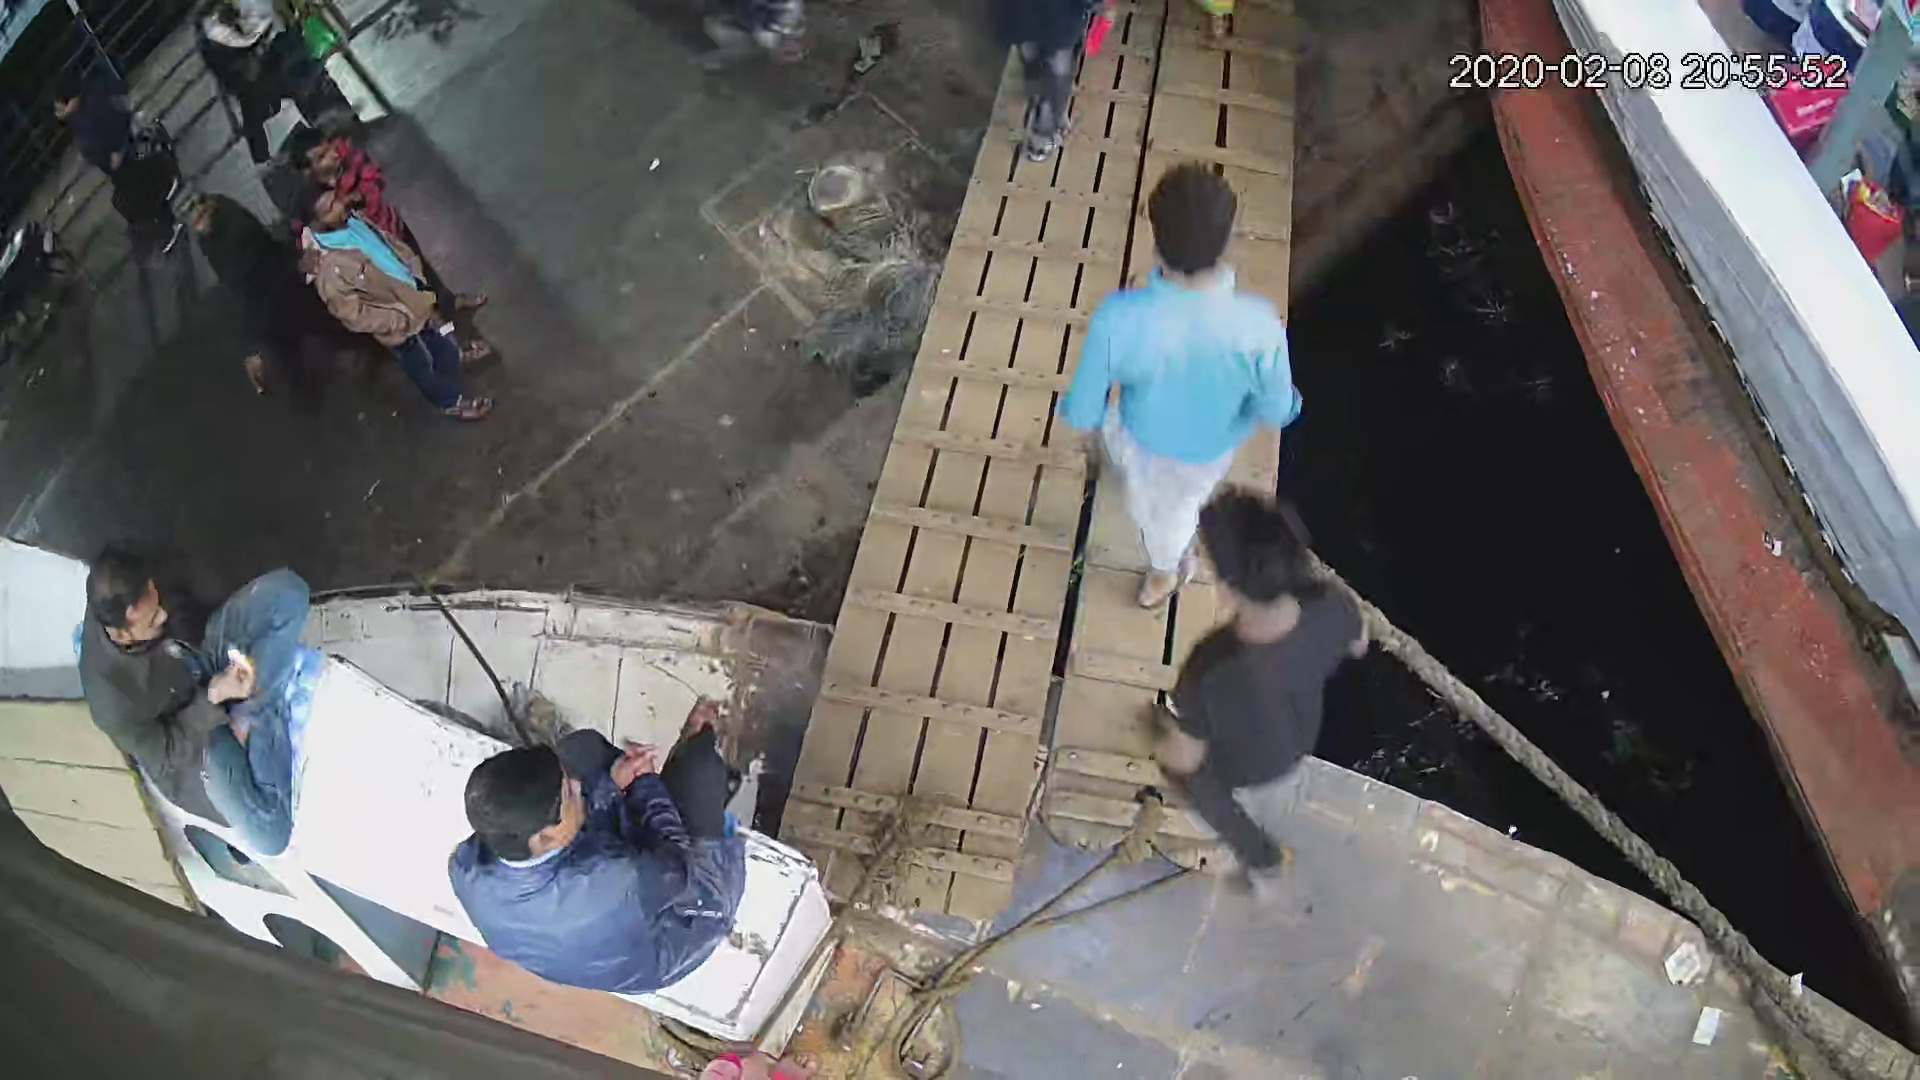person: (1128, 487, 1373, 891), (439, 685, 749, 1000), (1035, 157, 1308, 491), (73, 538, 308, 863), (291, 181, 507, 432), (166, 187, 338, 389)
